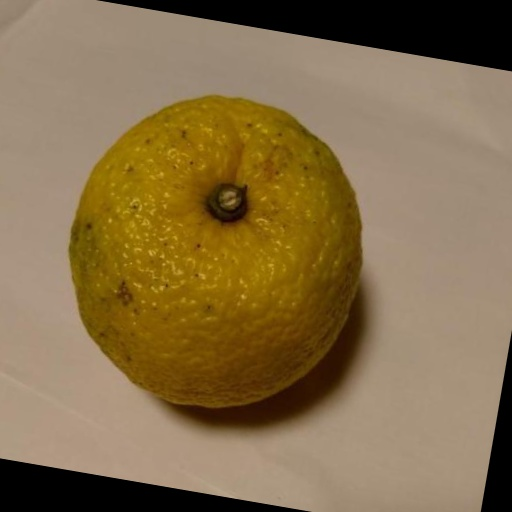fruit: (69, 96, 360, 407)
